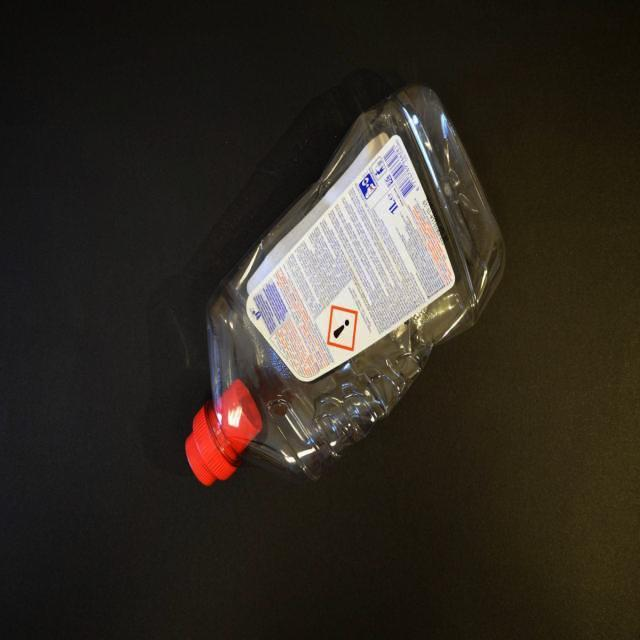bottle: (185, 85, 507, 487)
